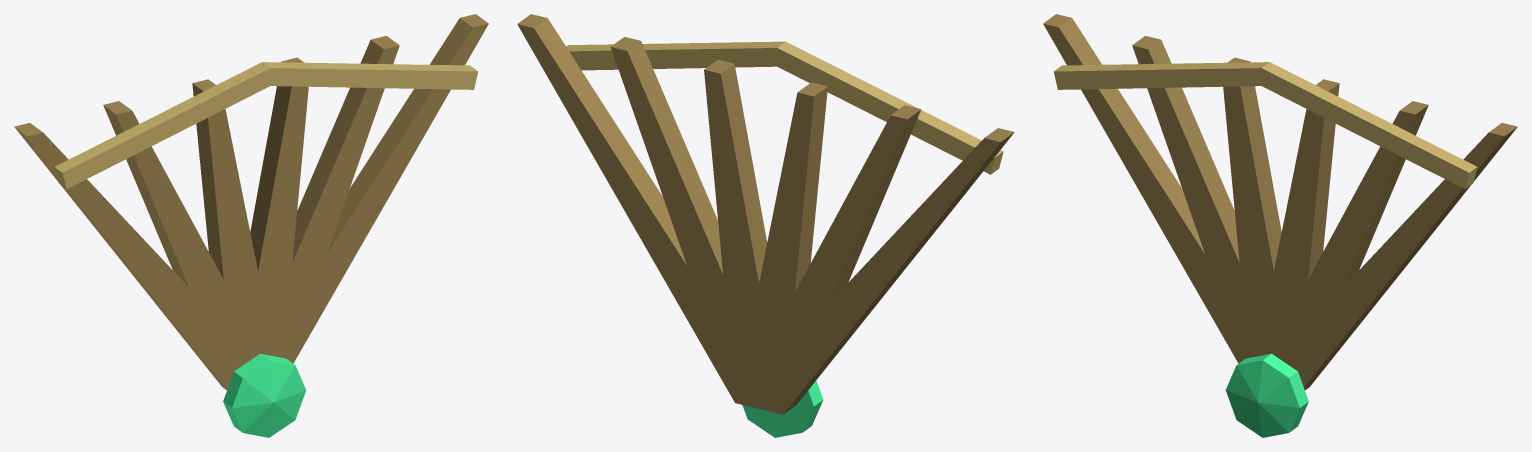
File: gilded_six_ribs.obj
3 views of the same model, side by side, from view 1: azimuth 30°, elevation 25°; view 2: azimuth 150°, elevation 25°; view 3: azimuth 330°, elevation 25° (orthographic). The views are drawn at different scales.
Visible parts, largest first — view 1: rib_05, rib_03, rib_04, rib_00, gilded_arc, rib_01, rib_02, fan_hinge, rib_05_edge, gilded_arc_edge, rib_04_edge, rib_03_edge (+3 smaller); view 2: rib_00, rib_01, rib_03, rib_04, rib_05, rib_02, gilded_arc, rib_05_edge, rib_04_edge, gilded_arc_edge, rib_03_edge, rib_02_edge (+3 smaller); view 3: rib_00, gilded_arc, rib_03, rib_04, rib_01, rib_05, rib_02, fan_hinge, rib_00_edge, gilded_arc_edge, rib_01_edge, rib_02_edge (+3 smaller).
Part boxes in pixels (box(x1,y1,x2,y2)): rib_05: box(263, 23, 488, 363); rib_03: box(241, 86, 308, 364); rib_04: box(252, 45, 399, 360); rib_00: box(27, 132, 252, 386); gilded_arc: box(62, 68, 477, 188); rib_01: box(116, 111, 261, 382); rib_02: box(208, 109, 274, 373); fan_hinge: box(223, 353, 306, 437); rib_05_edge: box(327, 14, 488, 253); gilded_arc_edge: box(54, 62, 477, 188); rib_04_edge: box(292, 36, 399, 262); rib_03_edge: box(250, 57, 303, 270); rib_00: box(736, 138, 1000, 414); rib_01: box(736, 115, 907, 413); rib_03: box(704, 69, 781, 413); rib_04: box(610, 47, 781, 414); rib_05: box(517, 24, 779, 413); rib_02: box(735, 92, 813, 413); gilded_arc: box(569, 48, 994, 174); rib_05_edge: box(517, 14, 686, 265); rib_04_edge: box(611, 37, 722, 273); gilded_arc_edge: box(566, 41, 1003, 174); rib_03_edge: box(704, 59, 767, 282); rib_02_edge: box(795, 82, 827, 291); rib_00: box(1043, 23, 1268, 363); gilded_arc: box(1054, 68, 1469, 188); rib_03: box(1259, 109, 1323, 373); rib_04: box(1271, 111, 1415, 382); rib_01: box(1132, 45, 1280, 359); rib_05: box(1288, 132, 1504, 386); rib_02: box(1223, 86, 1290, 366); fan_hinge: box(1225, 353, 1308, 437); rib_00_edge: box(1043, 14, 1204, 253); gilded_arc_edge: box(1054, 62, 1477, 188); rib_01_edge: box(1132, 36, 1239, 262); rib_02_edge: box(1228, 57, 1281, 270).
Bounding box in the file's own units: 1.62 × 1.24 × 0.1759.
